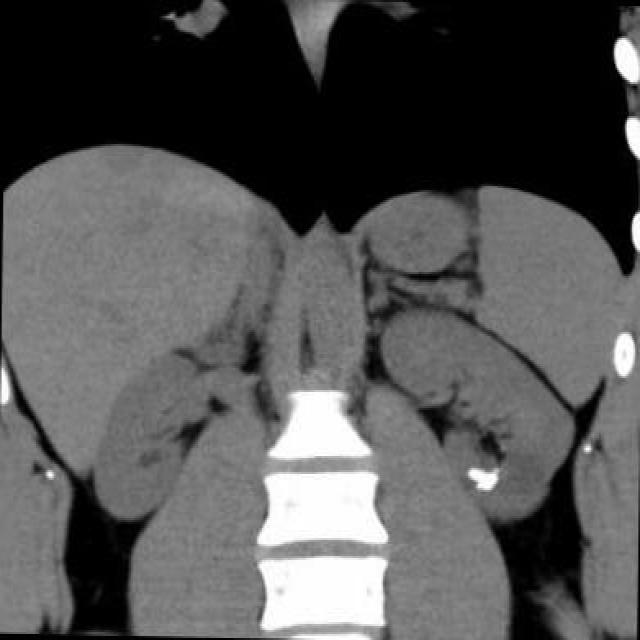Tas_Var: (464, 467, 507, 483), (470, 483, 501, 491), (492, 466, 498, 476)
